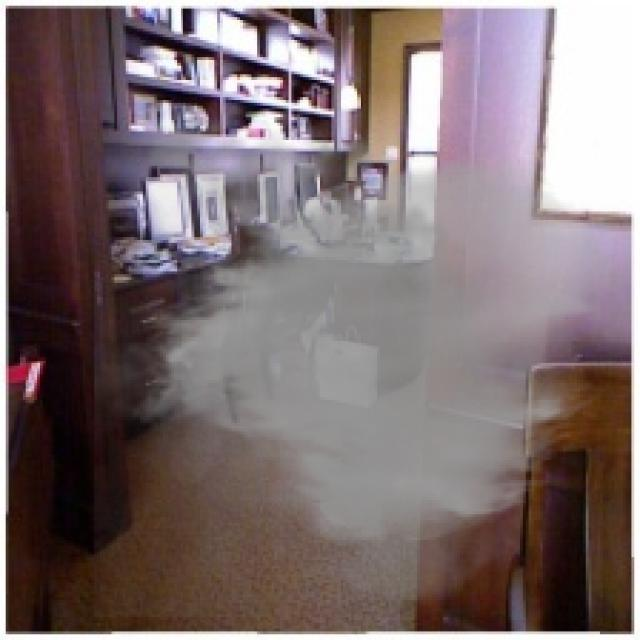Smoke: (95, 100, 614, 617)
